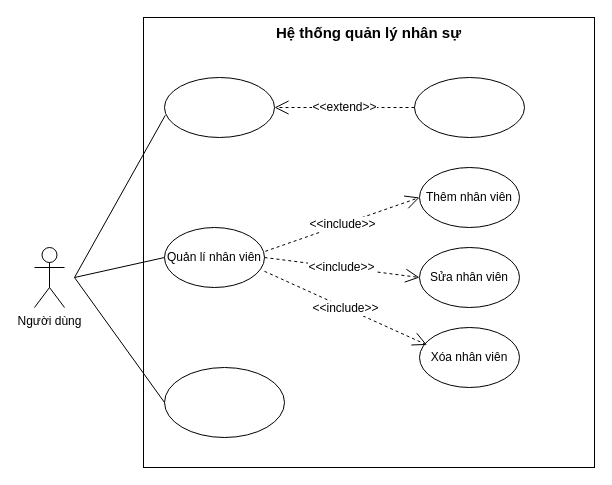
Image size: 612x485. Some labels were removed from this diagram. Each missing label, with the box of its shape:
Tìm kiếm nhân viên: (164, 366, 284, 438)
Đăng nhập: (164, 76, 274, 138)
Đăng xuất: (414, 76, 524, 138)
